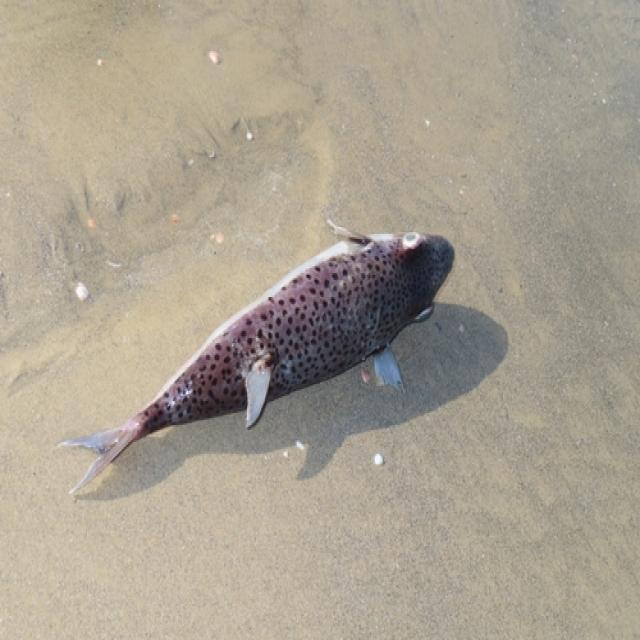Balik: (62, 224, 454, 493)
